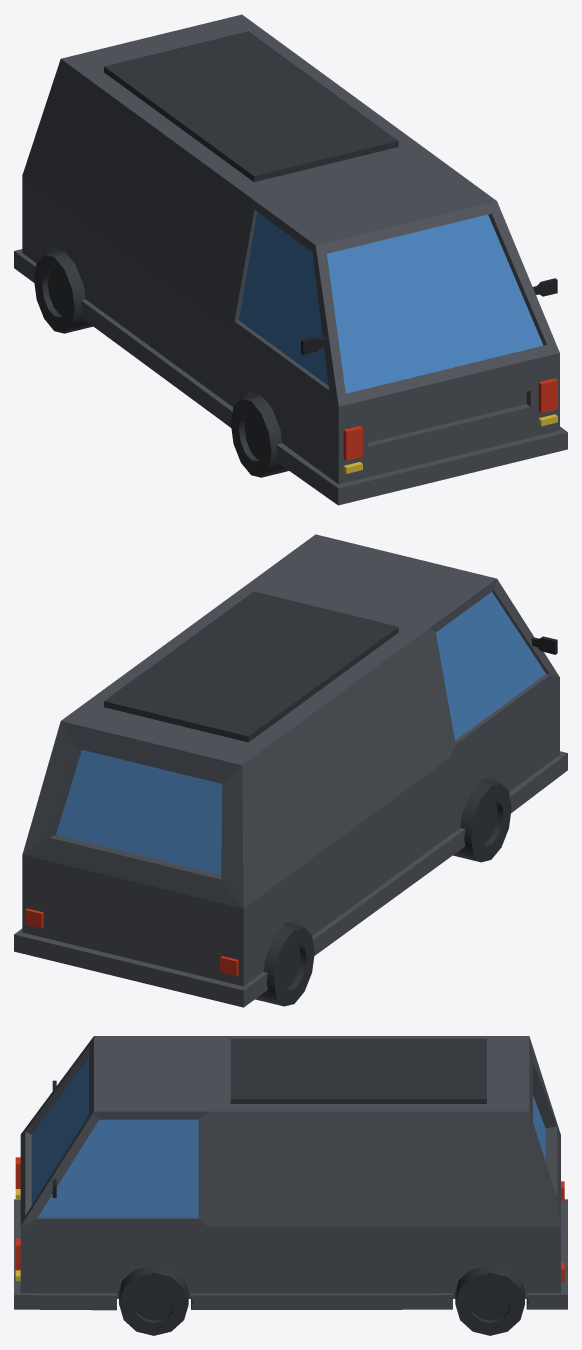
Rendered from Van_3.fbx.
3 renders of one model, top to bottom at view 1: azimuth 30°, elevation 25°; view 2: azimuth 150°, elevation 25°; view 3: azimuth 270°, elevation 25°, orthographic. The views are drawn at different scales.
Visible parts, largest first — view 1: Van_3; view 2: Van_3; view 3: Van_3.
Boxes of the visible parts, <box> form: Van_3: <box>14,14,567,505</box>; Van_3: <box>14,534,567,1007</box>; Van_3: <box>14,1036,567,1335</box>.
Bounding box in the file's own units: 243 × 232 × 535.
